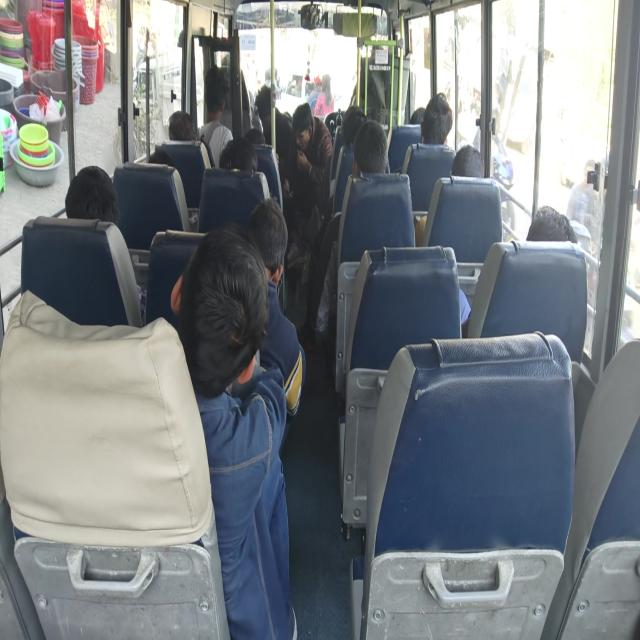person: (187, 246, 262, 372), (526, 188, 588, 262), (250, 200, 297, 283), (70, 171, 114, 225), (223, 130, 259, 177), (425, 94, 453, 154), (451, 143, 488, 183), (358, 132, 384, 182), (143, 146, 182, 178), (171, 106, 204, 143), (203, 71, 227, 118), (288, 105, 312, 151), (345, 111, 366, 148), (256, 86, 274, 122), (408, 102, 426, 132)
